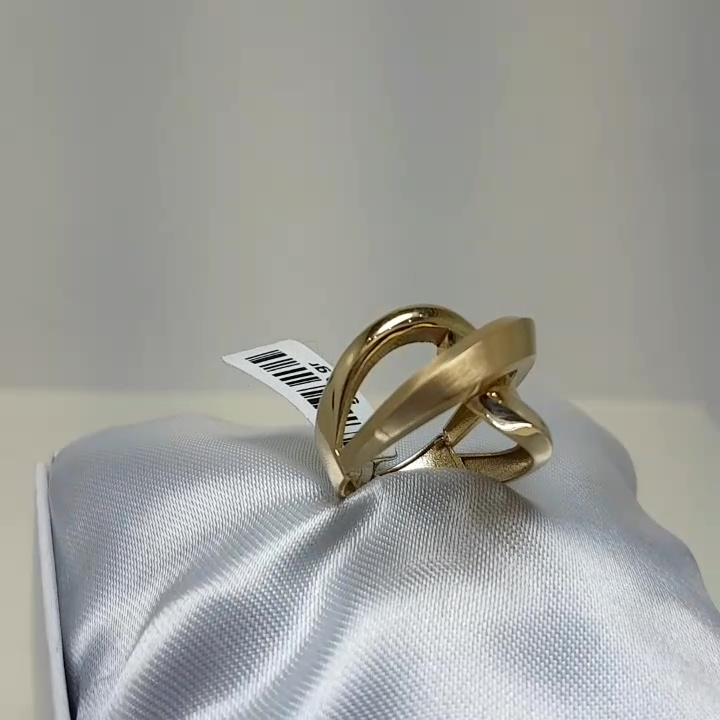Ring 3: (299, 279, 578, 509)
